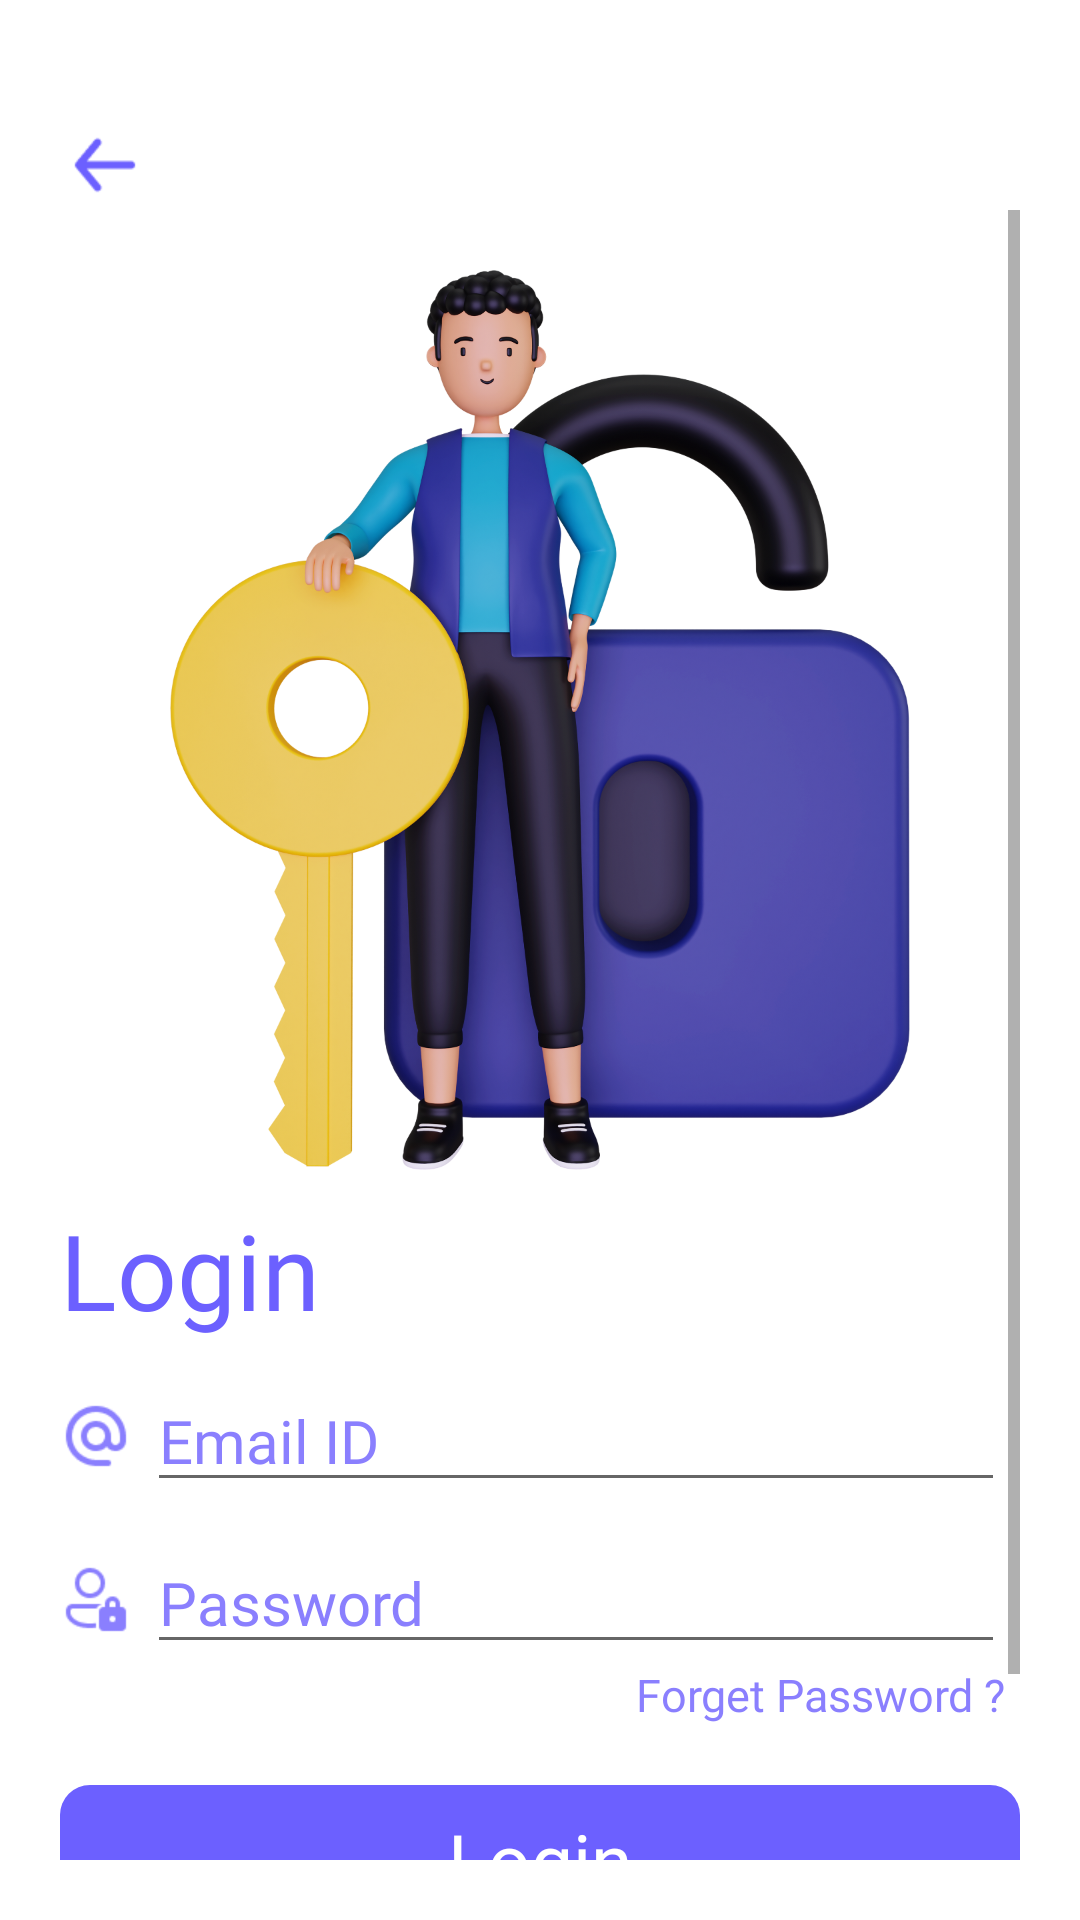

Locate icon controls on the screen. Image size 1080w x 1920h, boxes as (x1, y1, x2, y2).
arrow back: (75, 138, 136, 192)
